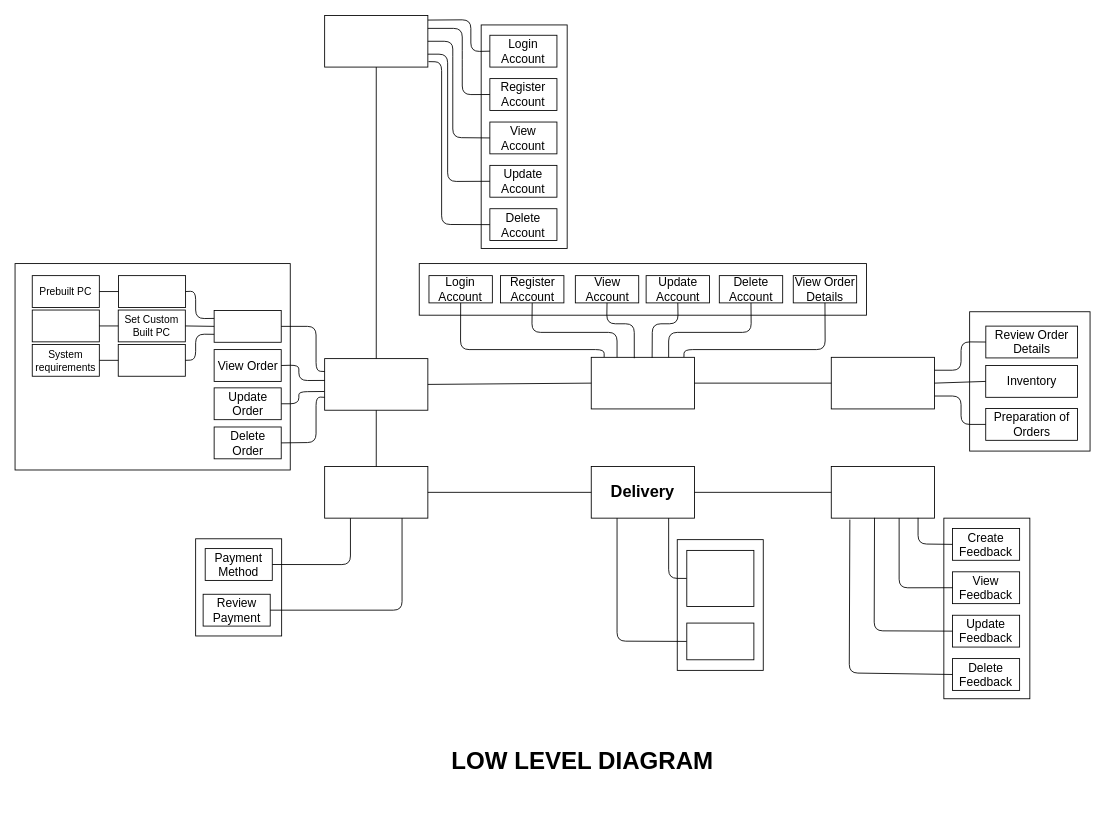
Image size: 1105x833. Some labels were removed from this diagram. The shapes that lost their labels are listed below. From the top down, each one's centre as x and y in pixels, then its label:
(x=376, y=41): Customer
(x=152, y=291): Set Prebuilt PC
(x=65, y=325): Custom Built PC
(x=247, y=326): Create Order
(x=151, y=360): Set System requirements
(x=376, y=384): Order
(x=642, y=382): Supplier
(x=882, y=382): Warehouse
(x=376, y=492): Payment
(x=882, y=492): Feedback
(x=720, y=578): View Delivery Details
(x=720, y=641): Delivery Status
